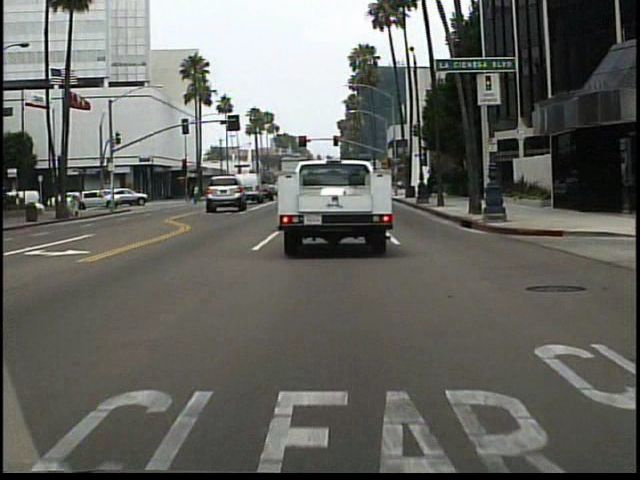person: (76, 187, 90, 213)
